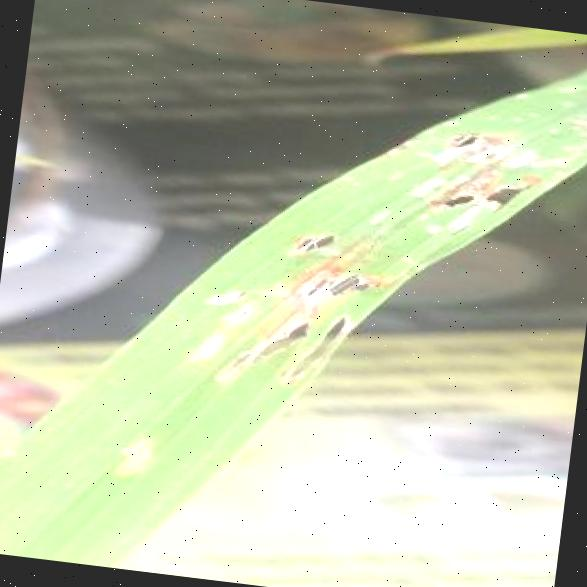Leaf_smut: (280, 307, 379, 396), (277, 202, 351, 274), (472, 167, 540, 240), (102, 432, 171, 496), (202, 270, 266, 326), (422, 166, 484, 217), (446, 115, 507, 164)
